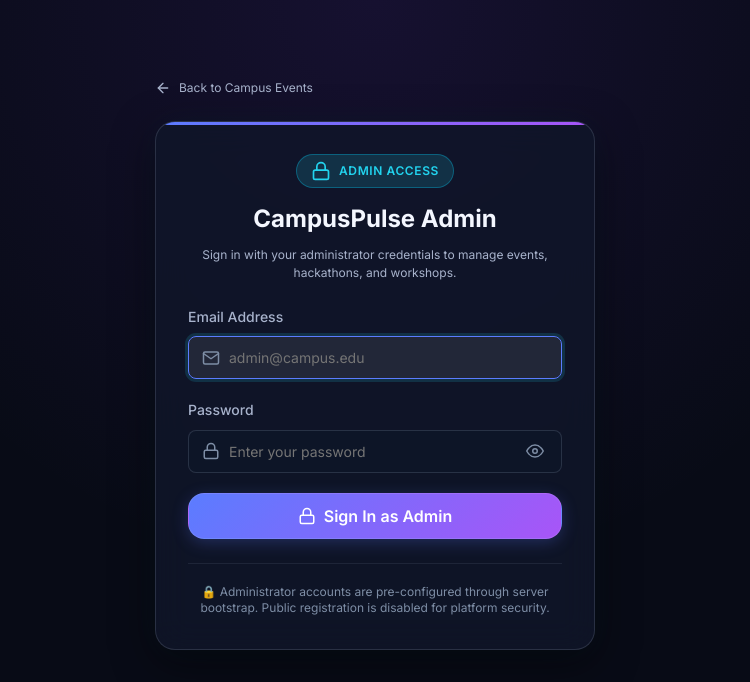
AdminLoginPage Component › validates email format before submitting
Type "invalid-email-address" into the field labelled "Email Address" at [375, 358], box [188,336,562,379]
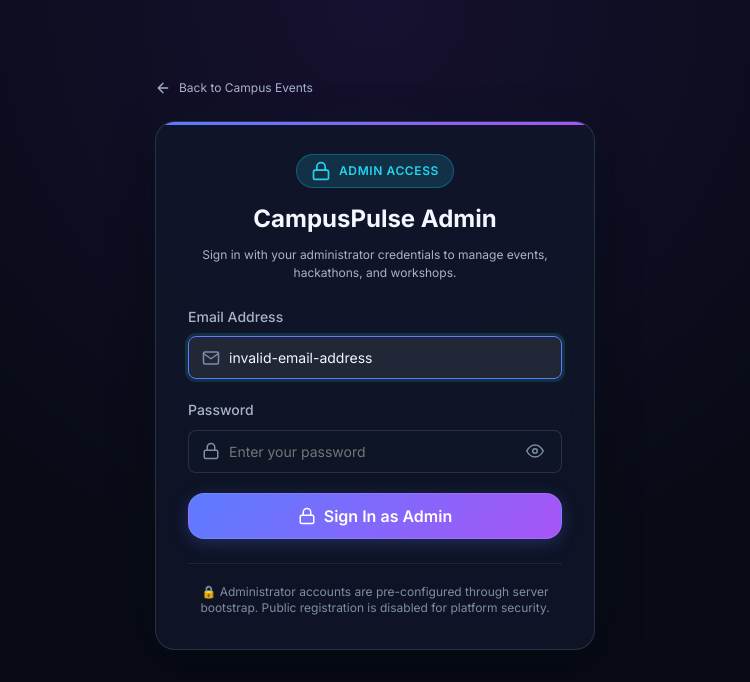
Type "SomePassword" into the password field labelled "Password" at [375, 451], box [188,430,562,473]
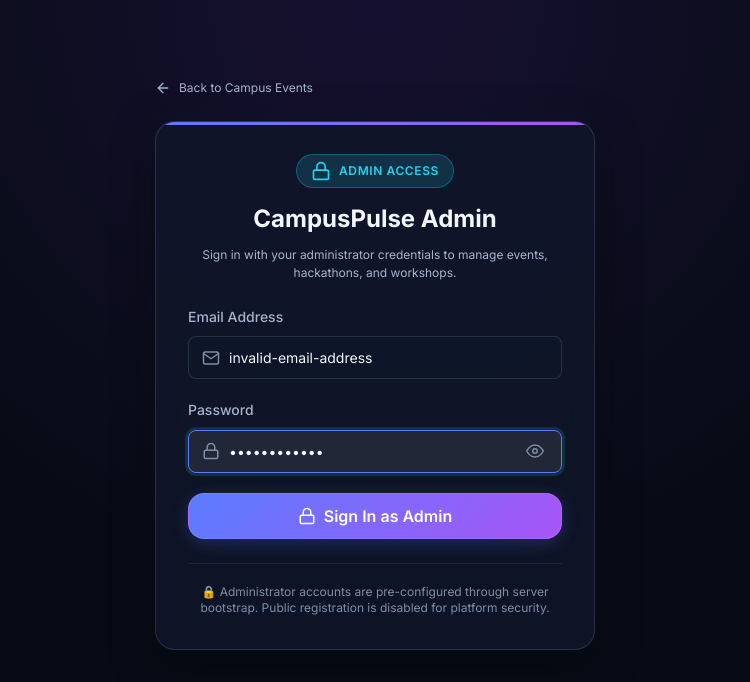
Click the button "Sign In as Admin" at [375, 516], box [188,493,562,539]
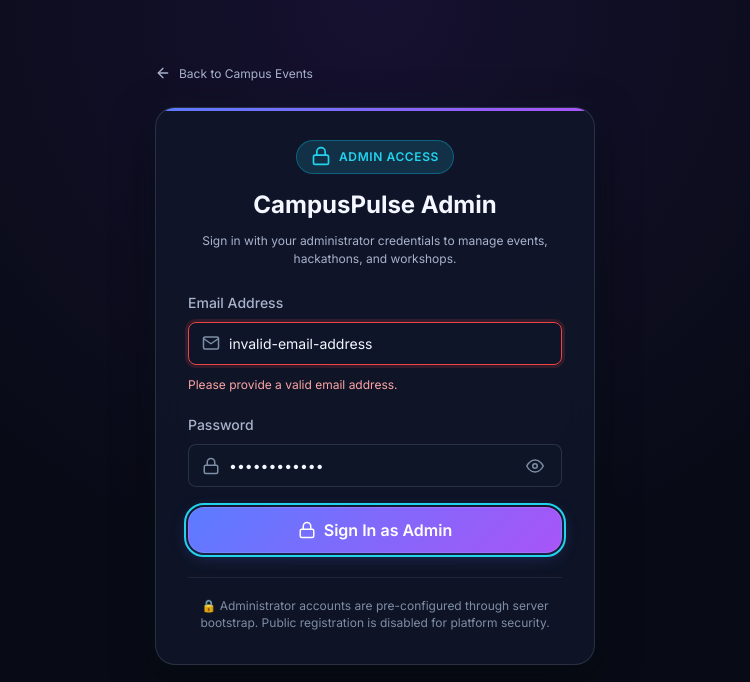
Now the text "Please provide a valid email address." is shown, box [188,377,398,392]
